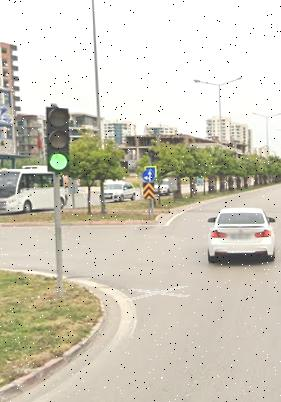greenlight: (46, 105, 70, 173)
